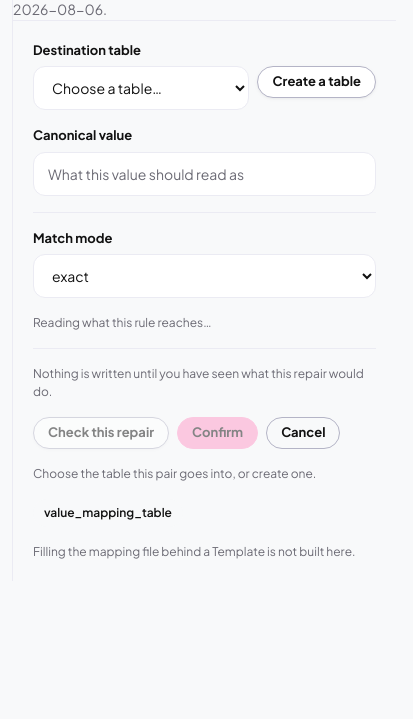
S3 — the repair drawer › writes ONE pair per value the rule reaches, in a single act
This screenshot has width=413, height=719.
expect the element with test id "repair-reach" is shown: met, box x1=33 y1=315 x2=212 y2=330
Step 1. Select "Country vocabulary" in the dropdown with test id "repair-destination" → (141, 88), box x1=33 y1=66 x2=250 y2=110
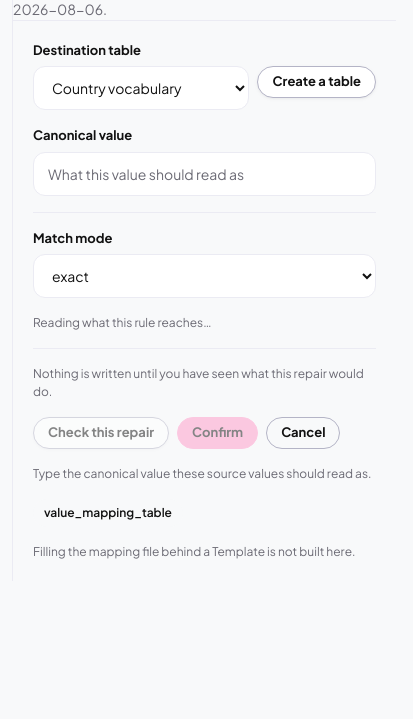
Step 2. Type "France" into the field with test id "repair-canonical" → (204, 174), box x1=33 y1=152 x2=376 y2=196
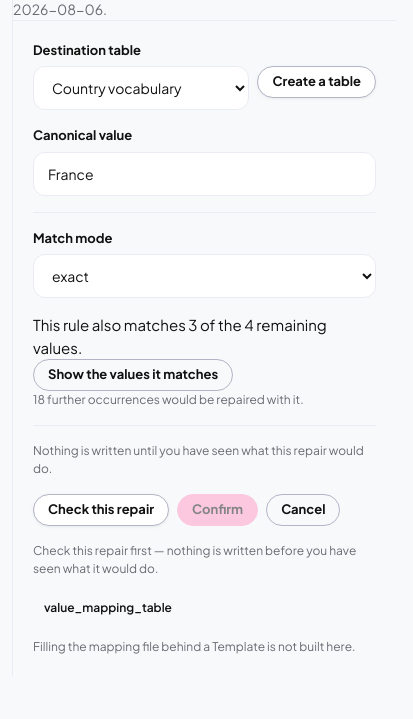
Step 3. Click the button with test id "repair-check" → (101, 510), box x1=33 y1=494 x2=169 y2=526
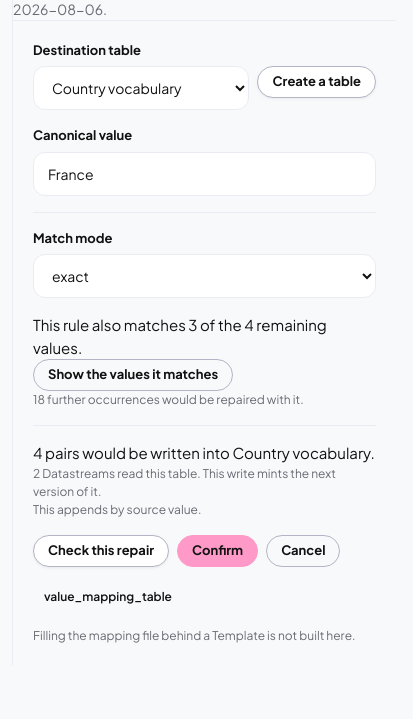
expect the element with test id "repair-impact" is shown: met, box x1=33 y1=442 x2=376 y2=518
Step 4. Click the button with test id "repair-confirm" → (218, 550), box x1=177 y1=534 x2=258 y2=566
(page scrolled)
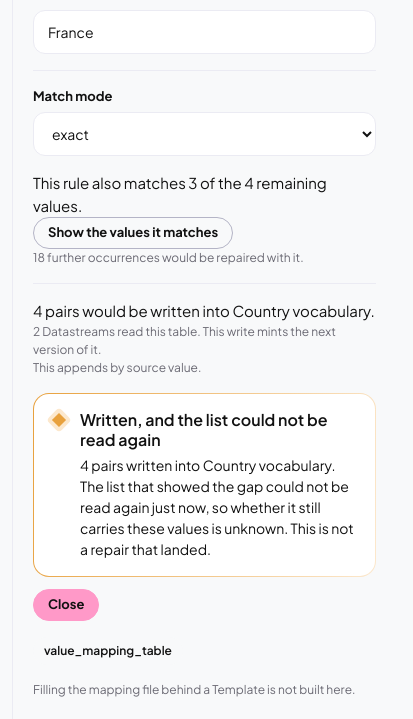
expect the element with test id "repair-done" is shown: met, box x1=33 y1=392 x2=376 y2=621
